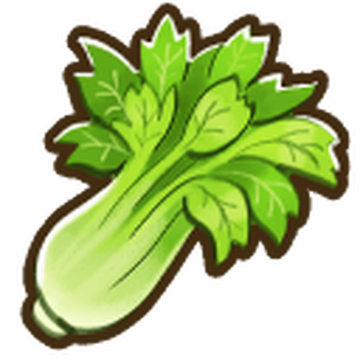Seledri: (23, 20, 358, 359)
